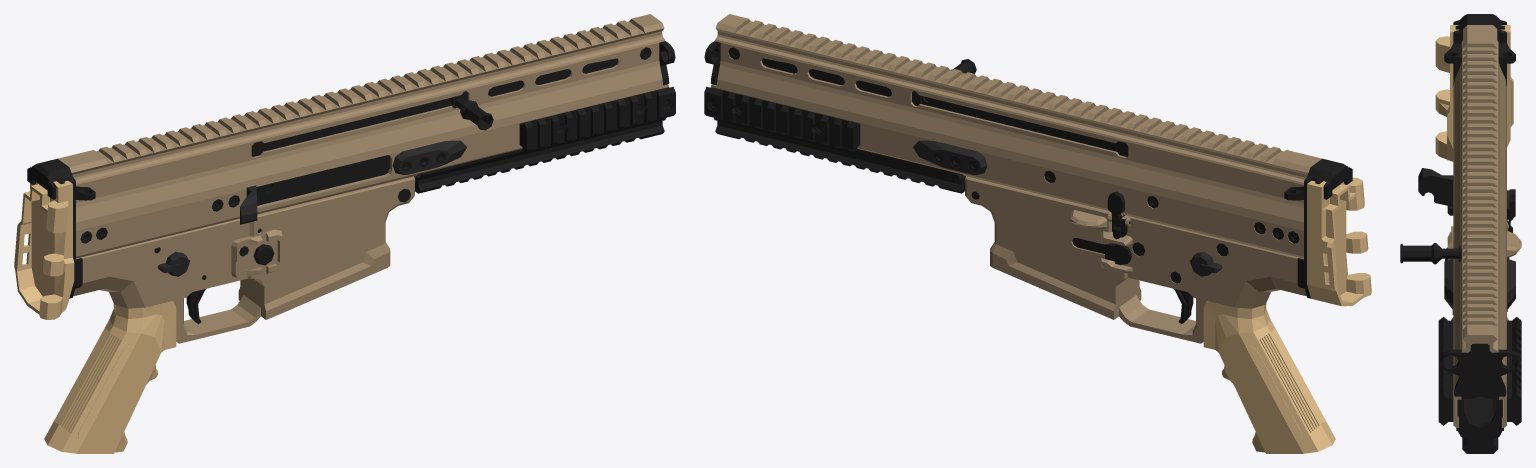
The model's file is fn_scar_h_std.glb.
3 views of the same model, side by side, from view 1: azimuth 30°, elevation 25°; view 2: azimuth 150°, elevation 25°; view 3: azimuth 270°, elevation 25° (orthographic). The views are drawn at different scales.
Parts seen in each view (by area): view 1: scarhstd upper receiver_16 (×4), scarhstd lower receiver_18, scarhstd pistol grip_0, scarhstd bolt carrier_17; view 2: scarhstd upper receiver_16 (×4), scarhstd lower receiver_18, scarhstd pistol grip_0, scarhstd bolt carrier_17, scarhstd mag release_15; view 3: scarhstd upper receiver_16 (×4), scarhstd bolt carrier_17, scarhstd lower receiver_18, scarhstd bolt release_1.
Part boxes in pixels (x1,y1,x2,y2): scarhstd upper receiver_16 (×4): [14, 14, 675, 319]; scarhstd lower receiver_18: [73, 176, 414, 343]; scarhstd pistol grip_0: [44, 301, 176, 453]; scarhstd bolt carrier_17: [251, 58, 618, 205]; scarhstd upper receiver_16 (×4): [704, 14, 1371, 306]; scarhstd lower receiver_18: [965, 176, 1306, 343]; scarhstd pistol grip_0: [1203, 301, 1335, 453]; scarhstd bolt carrier_17: [761, 58, 1128, 156]; scarhstd mag release_15: [1072, 238, 1132, 264]; scarhstd upper receiver_16 (×4): [1418, 14, 1521, 453]; scarhstd bolt carrier_17: [1400, 243, 1461, 264]; scarhstd lower receiver_18: [1447, 219, 1521, 320]; scarhstd bolt release_1: [1507, 189, 1515, 232].
Bounding box in the file's own units: 4.57 × 2.04 × 0.7103.
